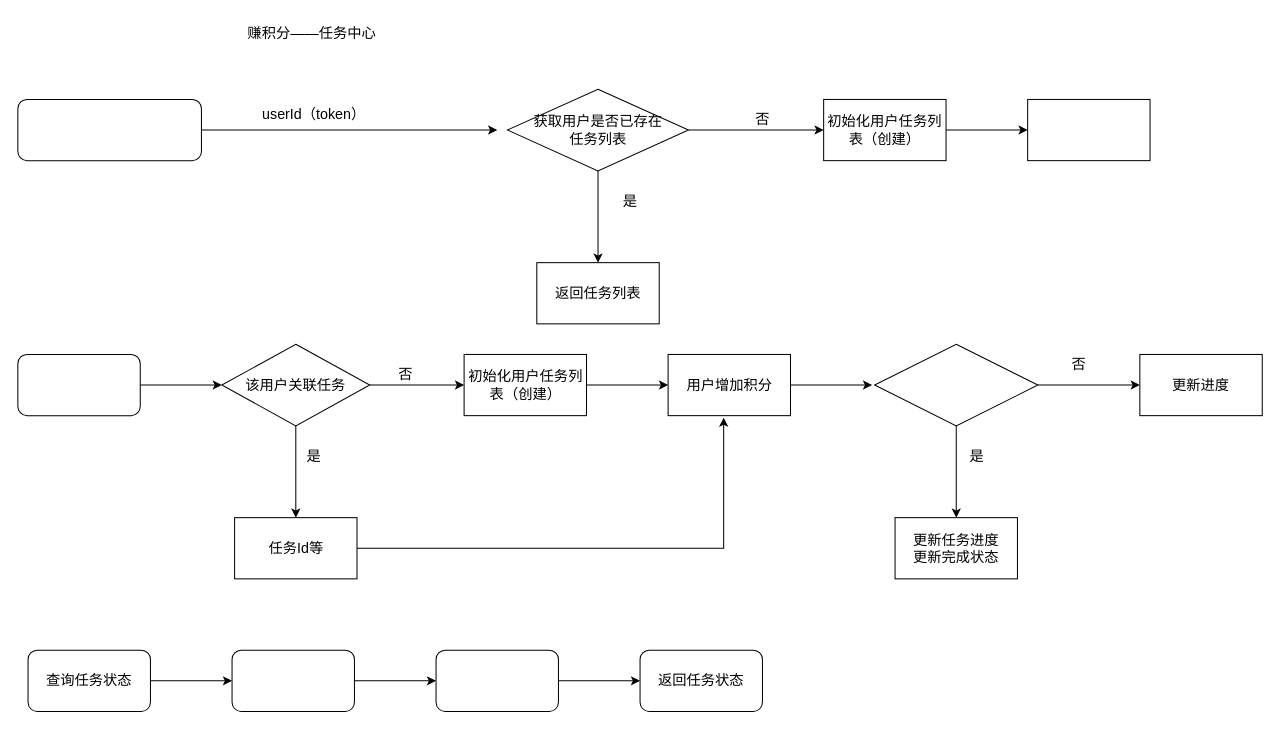
Image size: 1280x729. Some labels were removed from this diagram. Each missing label, with the centre of its shape:
"userId、任务code、任务type" goes at pixel 292 680.
"判断是否已达到 最大次数" goes at pixel 956 384.
"完成任务接口" goes at pixel 78 384.
"查询用户—任务表" goes at pixel 496 680.
"用户任务列表接口" goes at pixel 109 129.
"获取初始化的用户任务列表" goes at pixel 1088 129.
